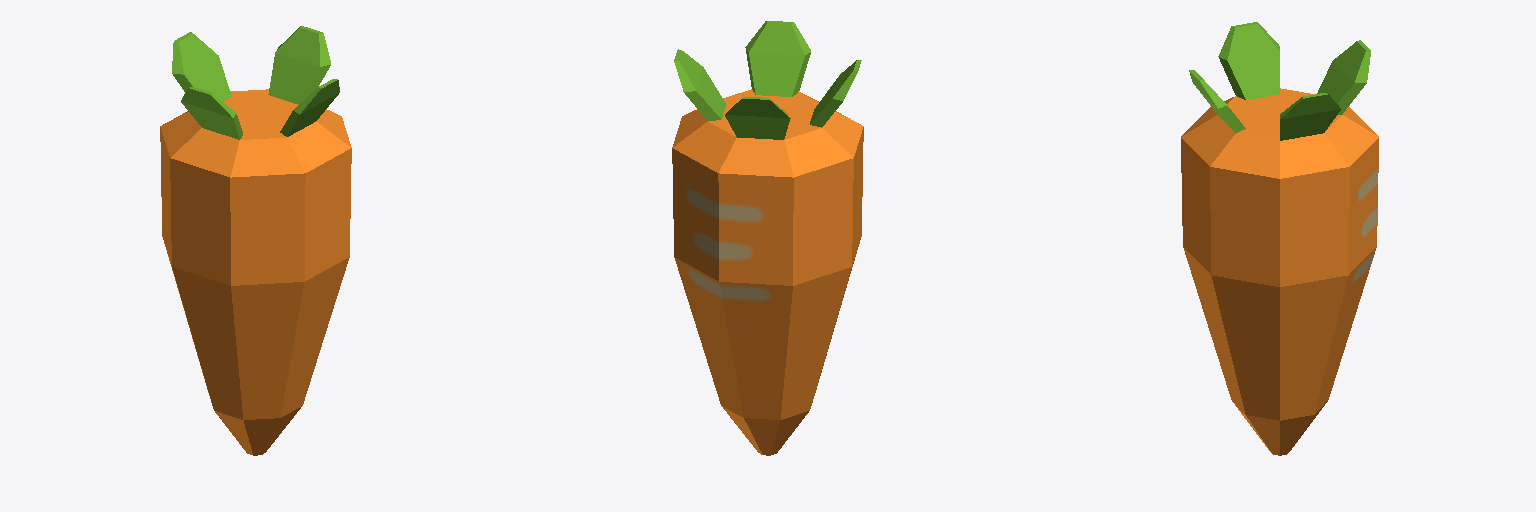
3 renders of one model, left to right at view 1: azimuth 30°, elevation 25°; view 2: azimuth 150°, elevation 25°; view 3: azimuth 270°, elevation 25°, orthographic.
Parts seen in each view (by area): view 1: 円柱; view 2: 円柱; view 3: 円柱.
Part boxes in pixels (x1,y1,x2,y2): 円柱: (160, 26, 351, 455); 円柱: (672, 21, 863, 455); 円柱: (1181, 22, 1378, 455).
Size of the model in its own units: 0.4 by 0.8709 by 0.4.
1 materials, 1 textured.